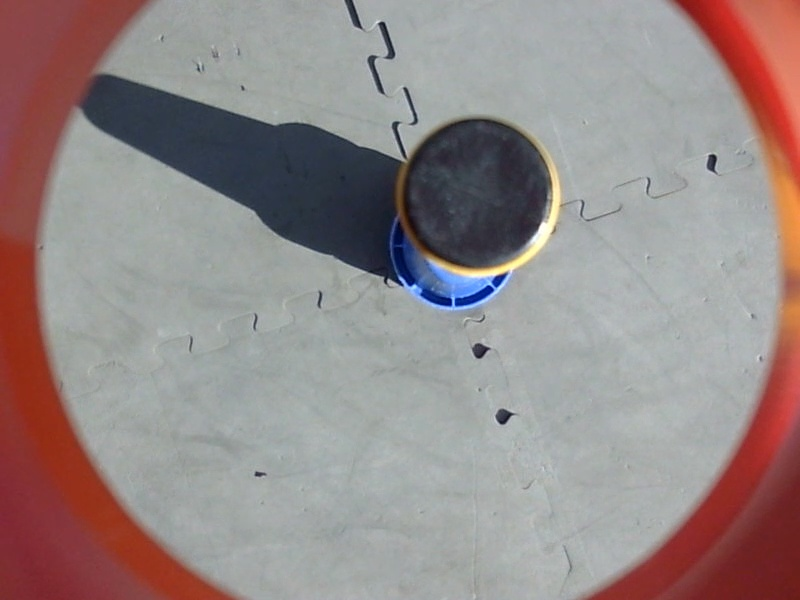tip: (381, 110, 571, 286)
